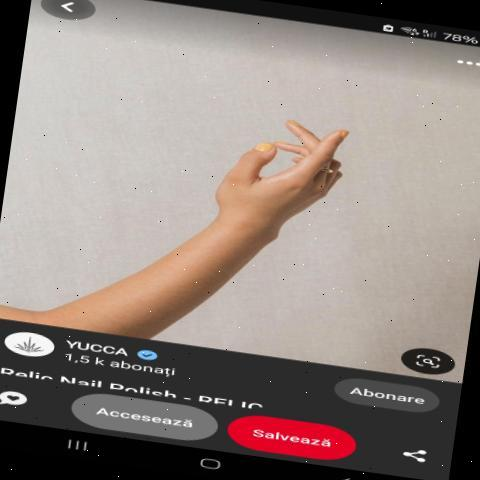Hands: (170, 58, 416, 282)
